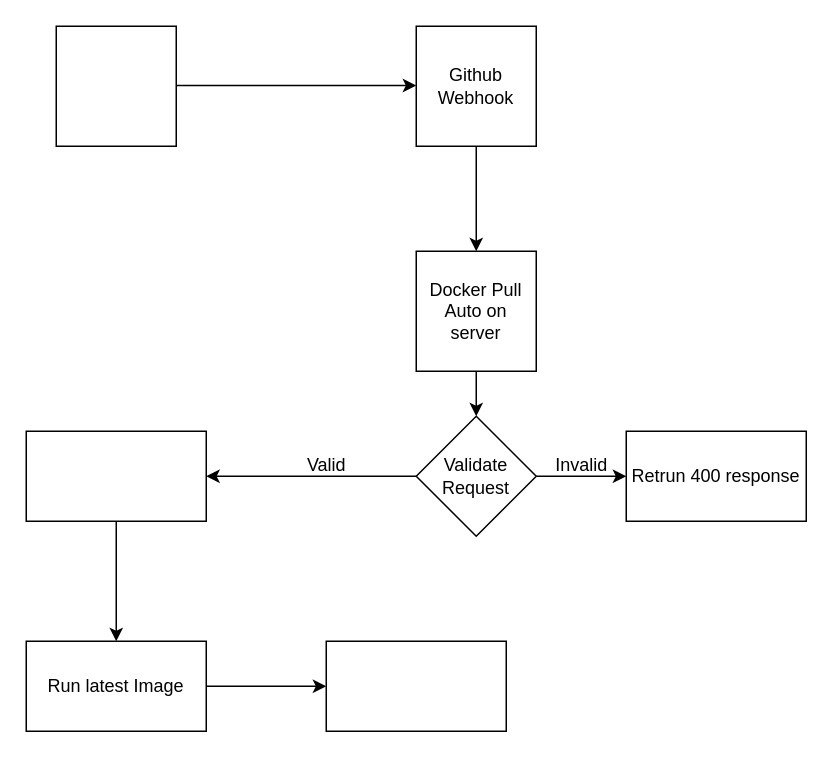
Some shapes in this 833 by 758 pixel diagram are drawn without their labels. The centre of each missing label's shape, as x and y in pixels:
"Delete Old Image if exist" belongs at (415,685).
"Pull Latest image" belongs at (115,475).
"Workflow Run" belongs at (115,85).
